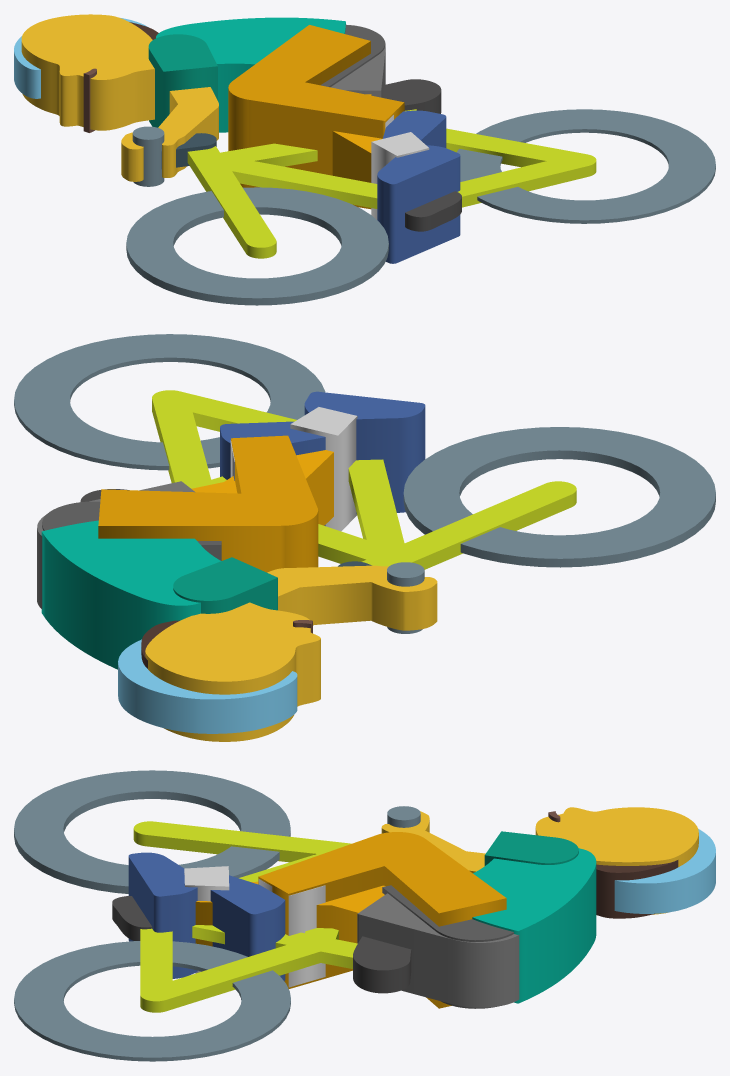
Rendered from emoji_u1f6b4_200d_2642.glb.
The picture shows the model from 3 angles, top to bottom: view 1: azimuth 30°, elevation 25°; view 2: azimuth 150°, elevation 25°; view 3: azimuth 270°, elevation 25°; orthographic projection. The views are drawn at different scales.
Visible parts, largest first — view 1: emoji_u1f6b4_200d_2642; view 2: emoji_u1f6b4_200d_2642; view 3: emoji_u1f6b4_200d_2642.
Part boxes in pixels (x1=…): emoji_u1f6b4_200d_2642: x1=14, y1=14, x2=715, y2=305; emoji_u1f6b4_200d_2642: x1=14, y1=334, x2=715, y2=741; emoji_u1f6b4_200d_2642: x1=14, y1=770, x2=715, y2=1061.
Bounding box in the file's own units: 0.0321 × 0.005 × 0.0334.
